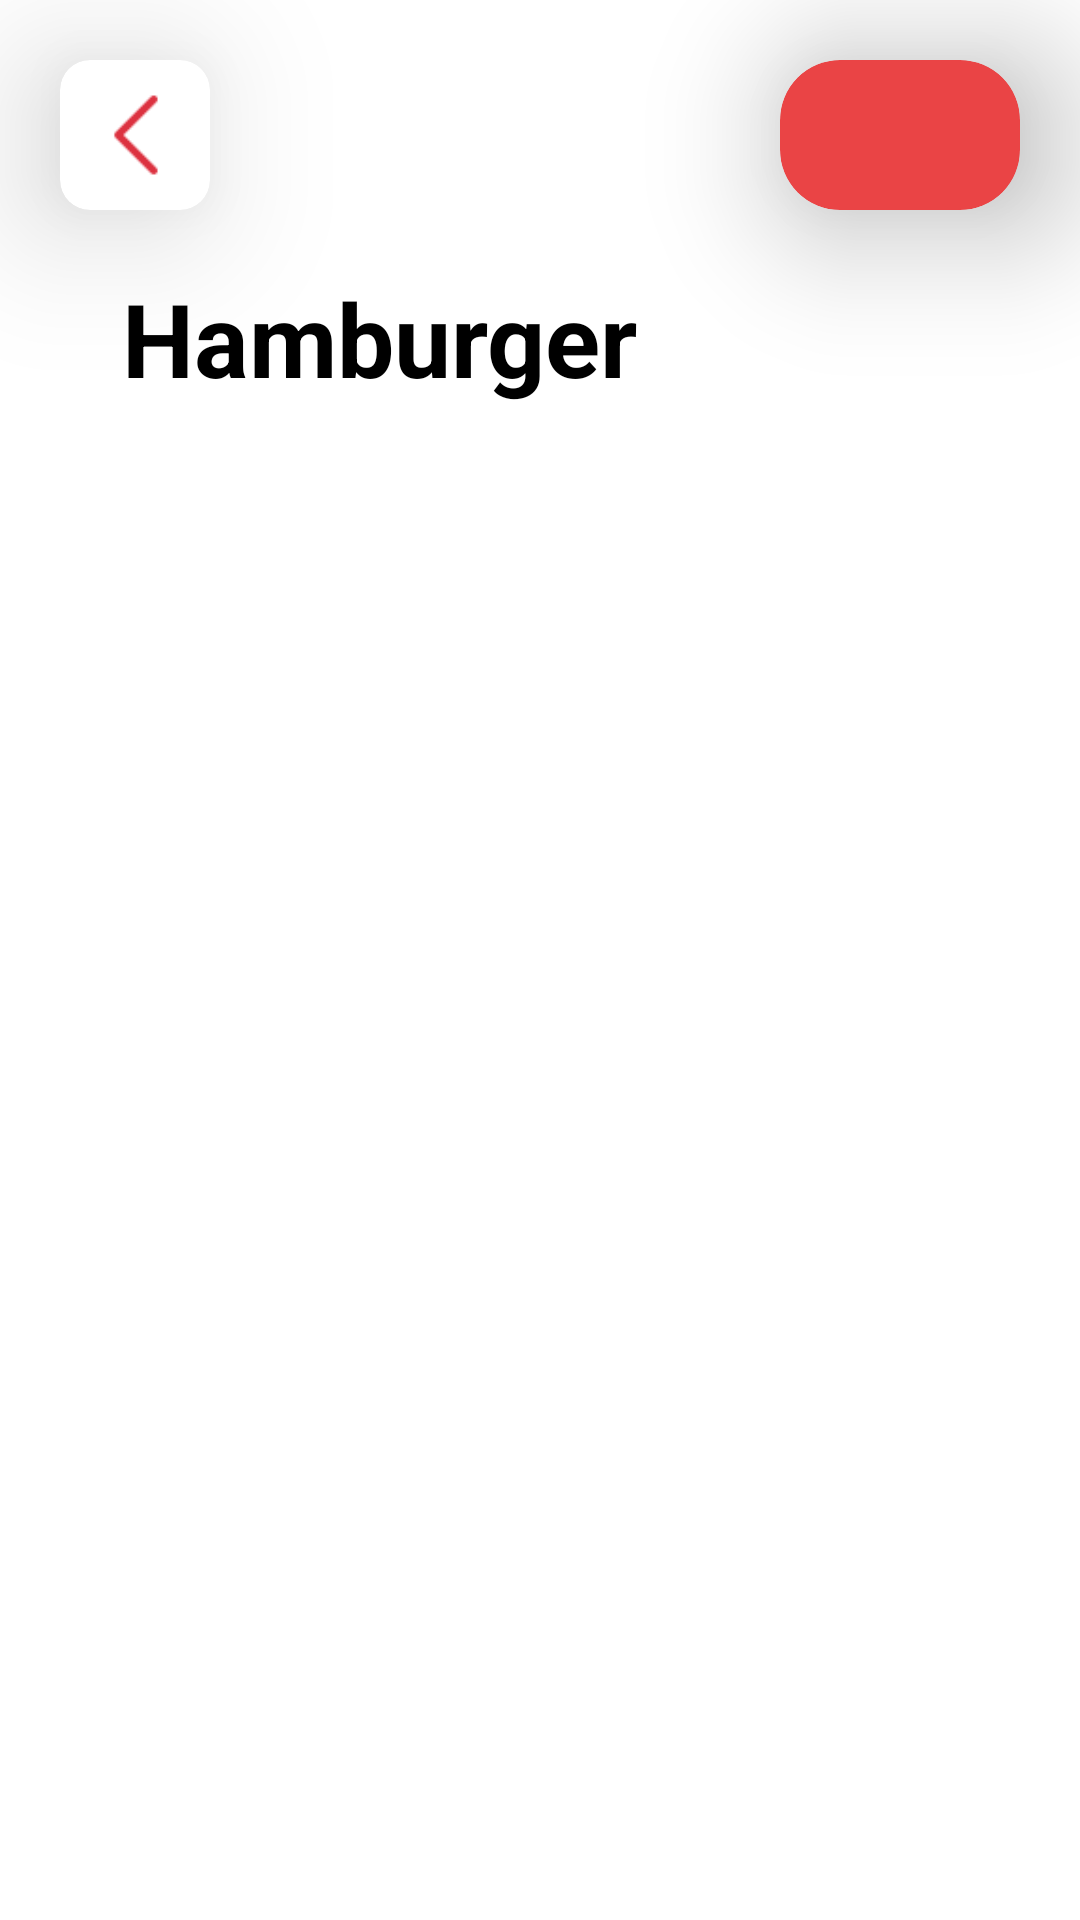

Named icons in this screenshot (1080w x 1920h) and their bounding boxes, (x1, y1, x2, y2):
back: (114, 95, 158, 175)
